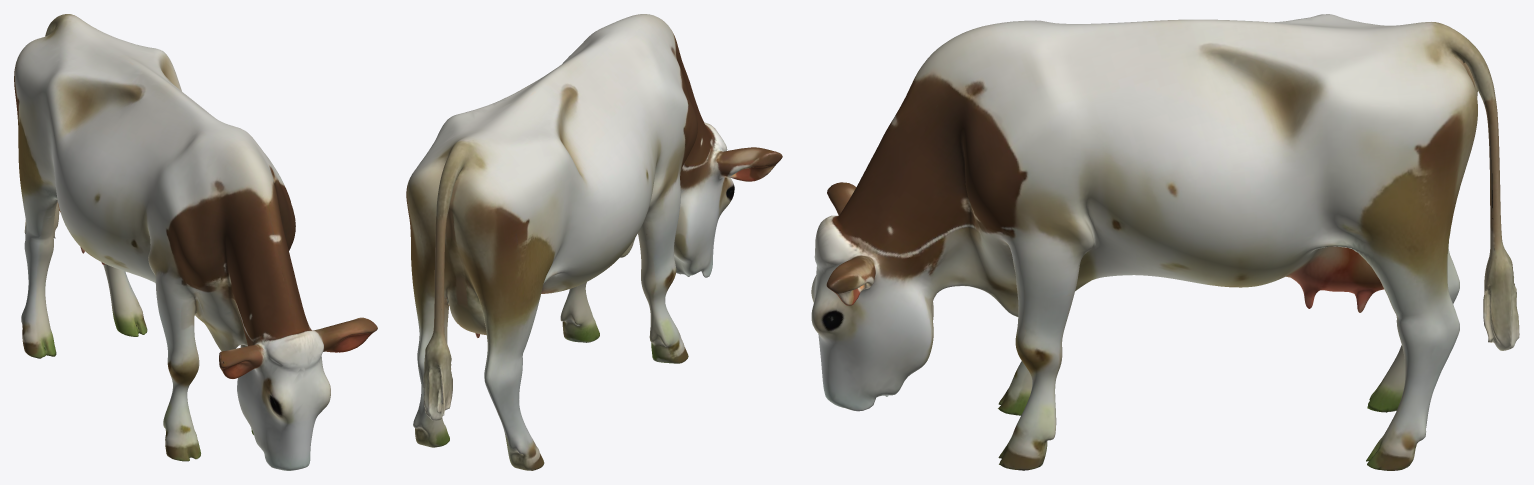
File: cow_grazing.glb
The picture shows the model from 3 angles, left to right: view 1: azimuth 30°, elevation 25°; view 2: azimuth 150°, elevation 25°; view 3: azimuth 270°, elevation 25°; orthographic projection. The views are drawn at different scales.
Parts seen in each view (by area): view 1: model; view 2: model; view 3: model.
Part boxes in pixels (box(x1,y1,x2,y2)): model: box(14, 14, 377, 470); model: box(406, 14, 782, 470); model: box(811, 14, 1519, 470).
Size of the model in its own units: 0.6579 by 1.21 by 1.89.
Materials: 1 (1 with a texture image).
